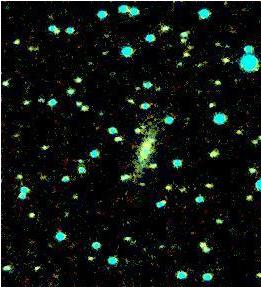star: (223, 117, 253, 147)
